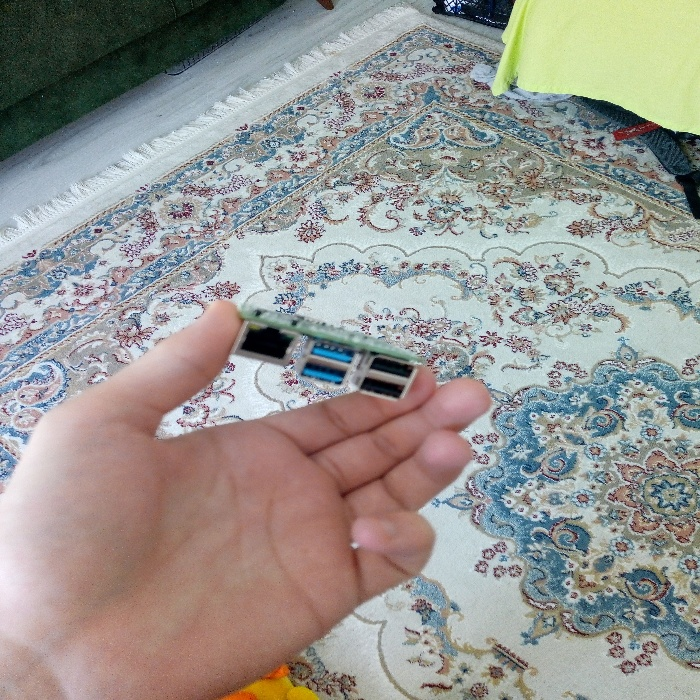raspberry: (211, 293, 432, 409)
